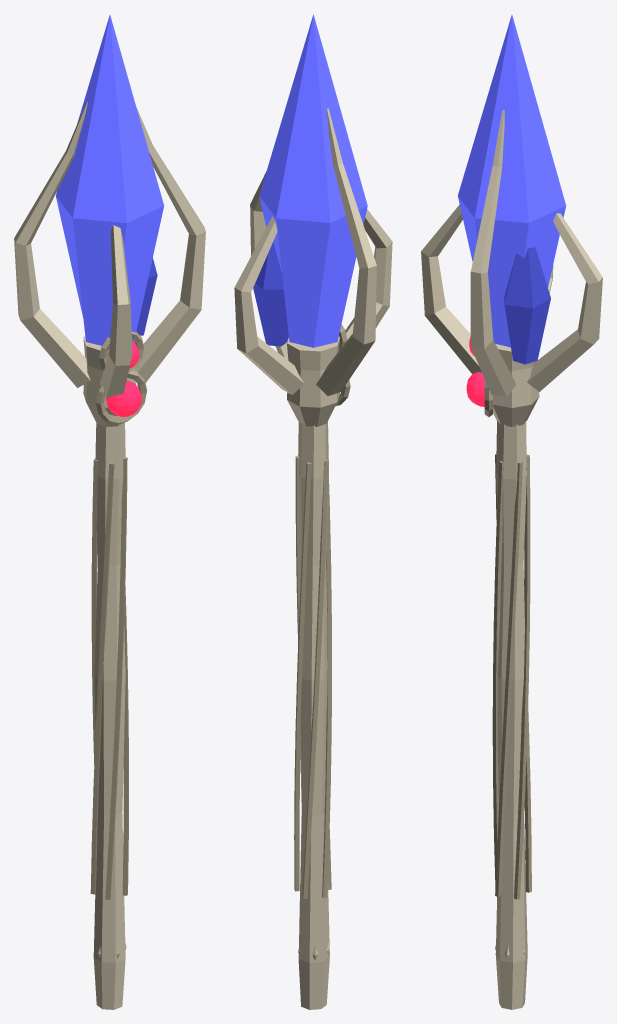
File: staff_bonejewel.glb
3 views of the same model, side by side, from view 1: azimuth 30°, elevation 25°; view 2: azimuth 150°, elevation 25°; view 3: azimuth 270°, elevation 25° (orthographic).
Parts seen in each view (by area): view 1: Bj_Crystal, Bj_Shaft, Bj_Claw1, Bj_Claw3, Bj_Claw2, Bj_Ridge3, Bj_Ridge2, Bj_Ridge4, Bj_Ridge1, Bj_Neck, Bj_Ruby0, Bj_RubyRing0 (+2 smaller); view 2: Bj_Crystal, Bj_Shaft, Bj_Claw1, Bj_Claw0, Bj_Neck, Bj_Ridge1, Bj_Ridge0, Bj_Crystal2, Bj_Ridge2, Bj_Claw2, Bj_Claw3, Bj_Ridge4; view 3: Bj_Crystal, Bj_Shaft, Bj_Claw3, Bj_Claw0, Bj_Crystal2, Bj_Claw2, Bj_Ridge4, Bj_Ridge0, Bj_Ridge3, Bj_Neck, Bj_Ridge1, Bj_Ruby0.
Part boxes in pixels (<box>): Bj_Crystal: <box>56,15,164,345</box>; Bj_Shaft: <box>93,422,125,1009</box>; Bj_Claw1: <box>14,102,90,387</box>; Bj_Claw3: <box>135,108,205,382</box>; Bj_Claw2: <box>99,225,132,397</box>; Bj_Ridge3: <box>105,457,127,899</box>; Bj_Ridge2: <box>90,462,114,894</box>; Bj_Ridge4: <box>122,586,128,895</box>; Bj_Ridge1: <box>91,458,97,764</box>; Bj_Neck: <box>83,336,135,426</box>; Bj_Ruby0: <box>106,380,142,416</box>; Bj_RubyRing0: <box>96,370,147,424</box>; Bj_Crystal: <box>259,14,367,347</box>; Bj_Shaft: <box>298,421,329,1009</box>; Bj_Claw1: <box>316,108,376,395</box>; Bj_Claw0: <box>234,216,304,394</box>; Bj_Neck: <box>287,336,339,426</box>; Bj_Ridge1: <box>302,459,328,898</box>; Bj_Ridge0: <box>294,462,311,891</box>; Bj_Crystal2: <box>253,242,288,346</box>; Bj_Ridge2: <box>322,480,331,898</box>; Bj_Claw2: <box>345,209,392,339</box>; Bj_Claw3: <box>250,171,288,360</box>; Bj_Ridge4: <box>295,456,300,643</box>; Bj_Crystal: <box>458,15,566,347</box>; Bj_Shaft: <box>495,420,527,1009</box>; Bj_Claw3: <box>470,110,516,397</box>; Bj_Claw0: <box>527,213,602,391</box>; Bj_Crystal2: <box>504,247,550,364</box>; Bj_Claw2: <box>421,205,481,374</box>; Bj_Ridge4: <box>495,461,522,896</box>; Bj_Ridge0: <box>514,454,530,899</box>; Bj_Ridge3: <box>492,461,503,885</box>; Bj_Neck: <box>493,344,539,426</box>; Bj_Ridge1: <box>524,707,531,892</box>; Bj_Ruby0: <box>466,372,484,406</box>.
Bounding box in the file's own units: 0.4102 × 2.46 × 0.4097.
